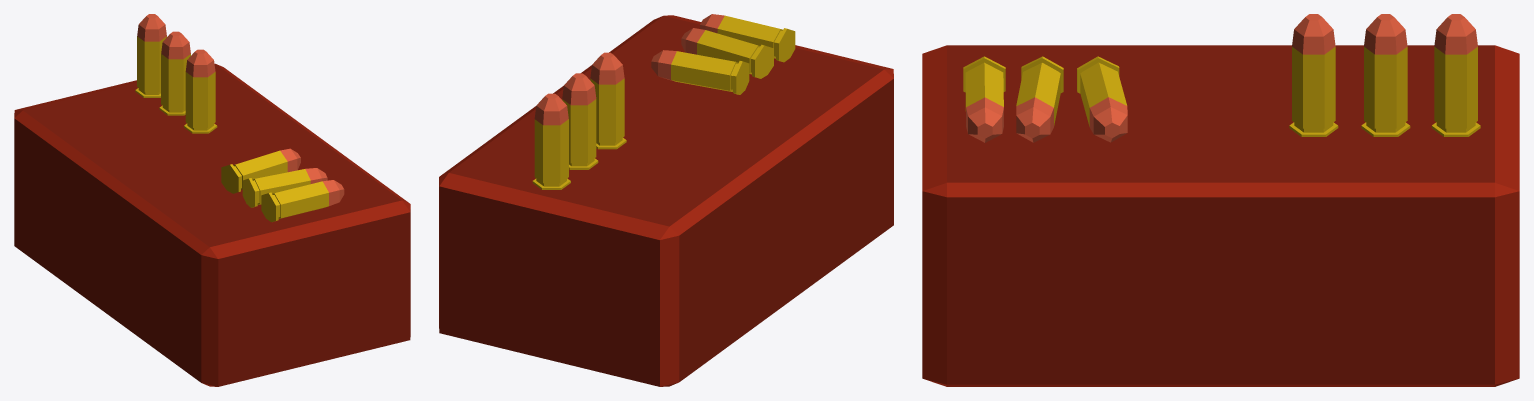
The model's file is Pistol Ammo.glb.
3 renders of one model, left to right at view 1: azimuth 30°, elevation 25°; view 2: azimuth 150°, elevation 25°; view 3: azimuth 270°, elevation 25°, orthographic. The views are drawn at different scales.
Parts seen in each view (by area): view 1: PistolAmmo_Box; view 2: PistolAmmo_Box; view 3: PistolAmmo_Box.
Part boxes in pixels (bbox=[...]): PistolAmmo_Box: bbox=[14, 14, 410, 386]; PistolAmmo_Box: bbox=[439, 14, 893, 386]; PistolAmmo_Box: bbox=[922, 14, 1519, 386].
Bounding box in the file's own units: 1.18 × 1.15 × 1.98.
